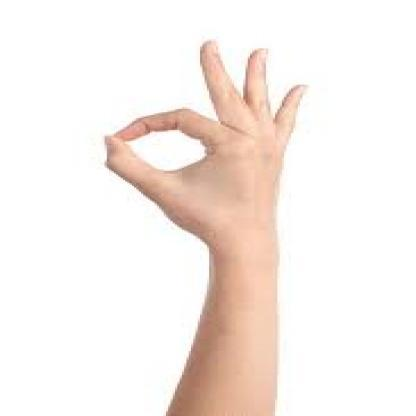ok: (99, 31, 312, 246)
